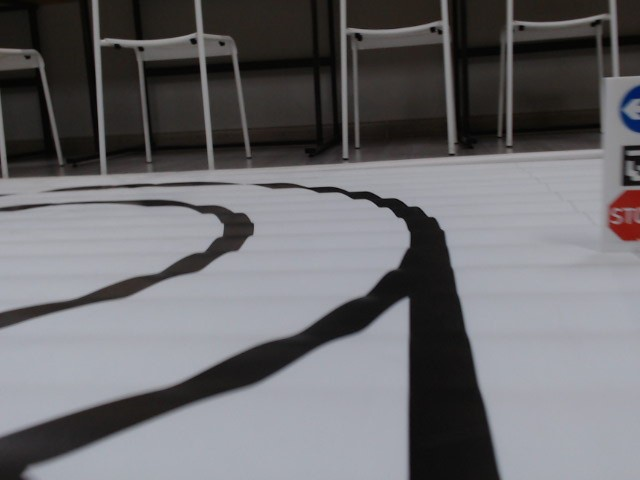Stop: (608, 190, 640, 241)
